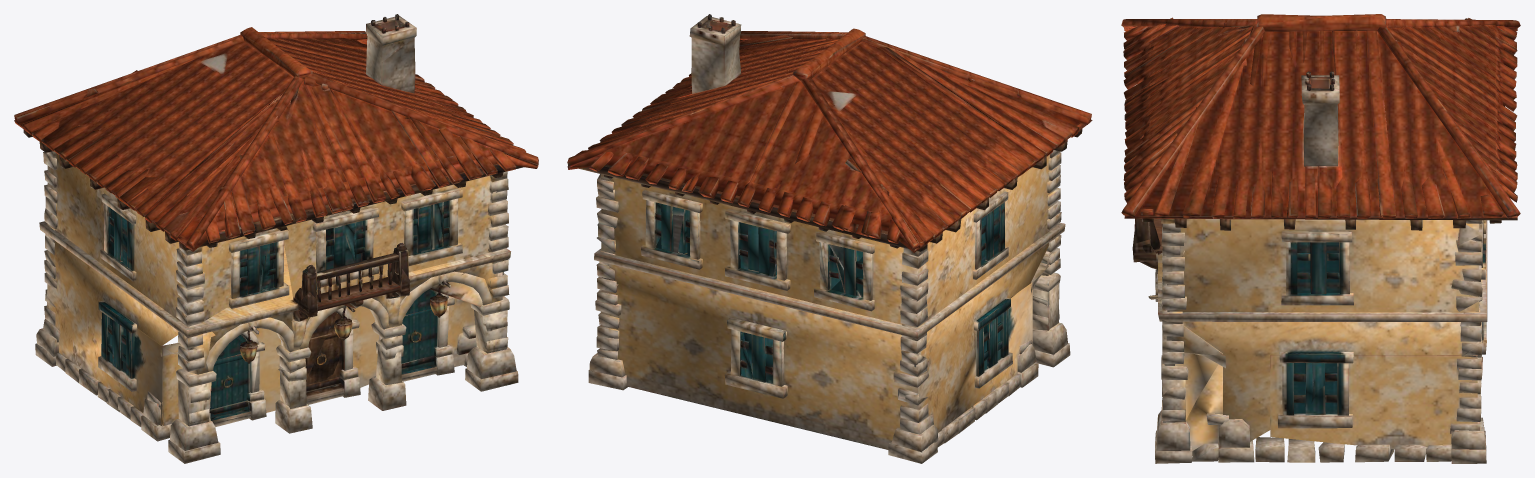
Rendered from warehouse.glb.
The picture shows the model from 3 angles, left to right: view 1: azimuth 30°, elevation 25°; view 2: azimuth 150°, elevation 25°; view 3: azimuth 270°, elevation 25°; orthographic projection. The views are drawn at different scales.
Parts seen in each view (by area): view 1: warehouse_LOD0; view 2: warehouse_LOD0; view 3: warehouse_LOD0.
Part boxes in pixels (<box>): warehouse_LOD0: <box>14,14,538,463</box>; warehouse_LOD0: <box>567,14,1092,463</box>; warehouse_LOD0: <box>1121,14,1520,463</box>.
Size of what is drawn, in the model's own units: 1 by 0.8803 by 0.8902.
1 material, 1 textured.
